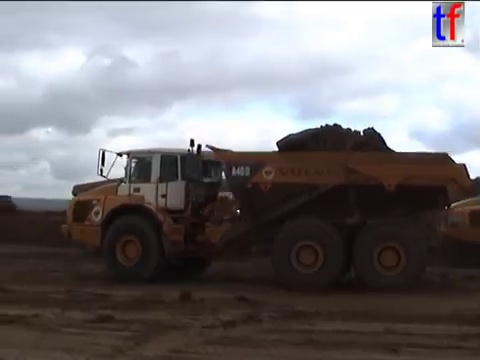truck: (58, 136, 476, 294), (428, 193, 480, 249), (1, 193, 19, 217)
